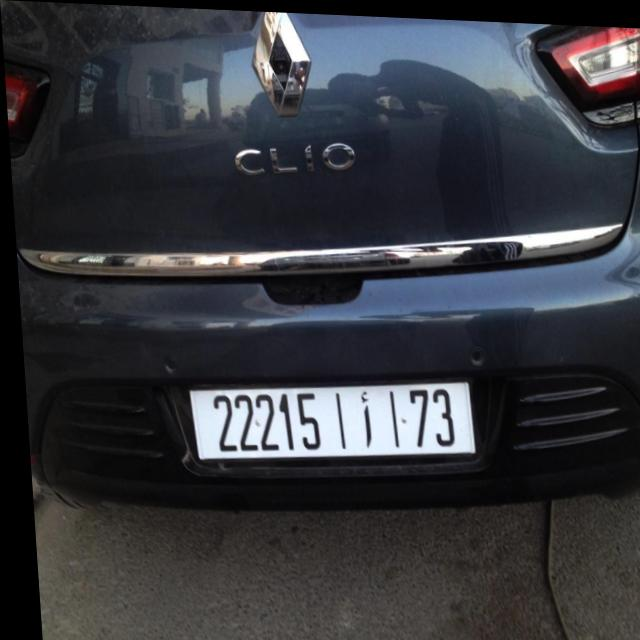License-Plate: (184, 378, 470, 459)
